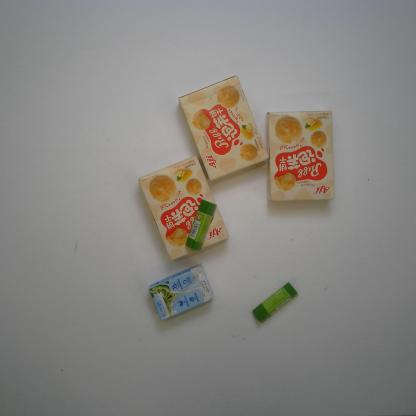Dessert: (178, 75, 270, 180), (139, 156, 229, 262), (265, 110, 335, 202)
Milk: (148, 263, 215, 322)
Stationery: (252, 282, 298, 324), (185, 199, 217, 251)
